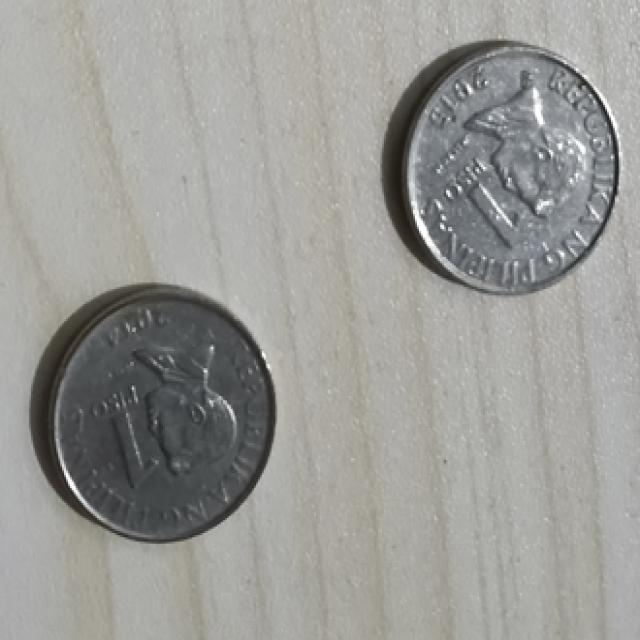1_peso: (50, 289, 273, 539), (403, 43, 619, 291)
